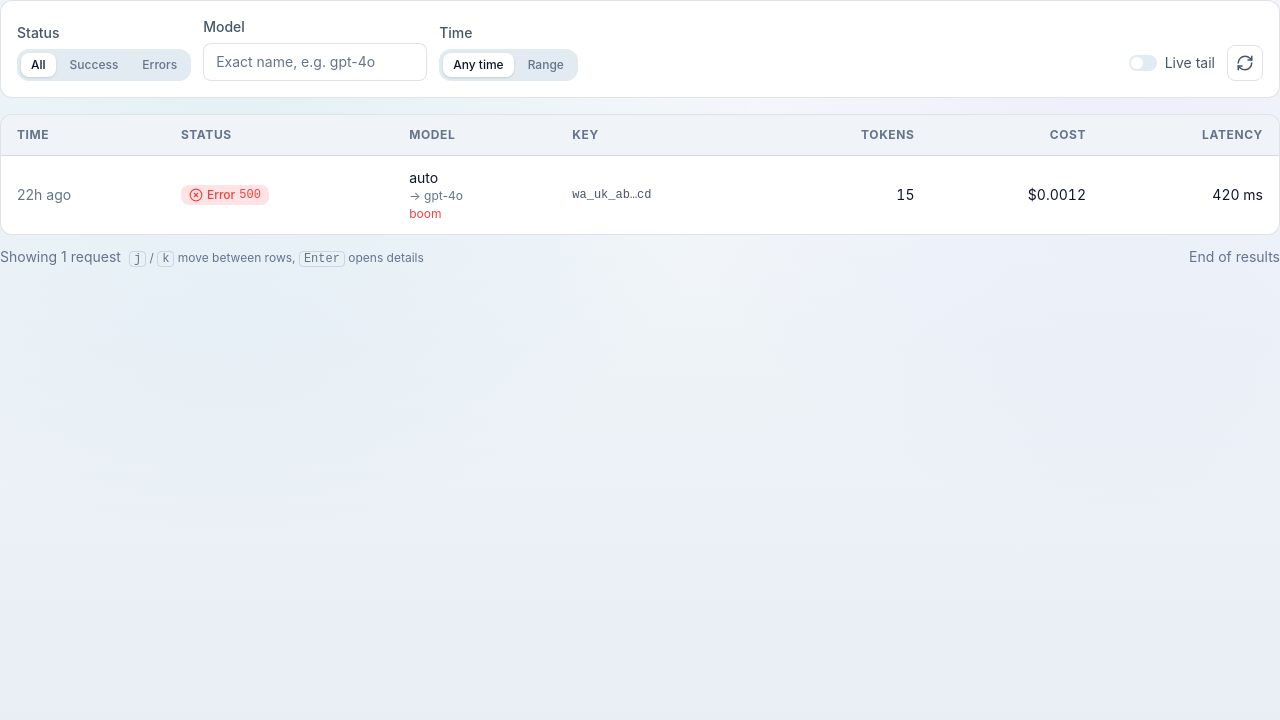
Test: RequestLogsPage › opens a detail sheet for a row
Expected: the text "boom" is shown, [409, 206, 442, 221]
Click the button with aria-label "view details for request" at {"x": 44, "y": 195}, box [17, 185, 71, 205]
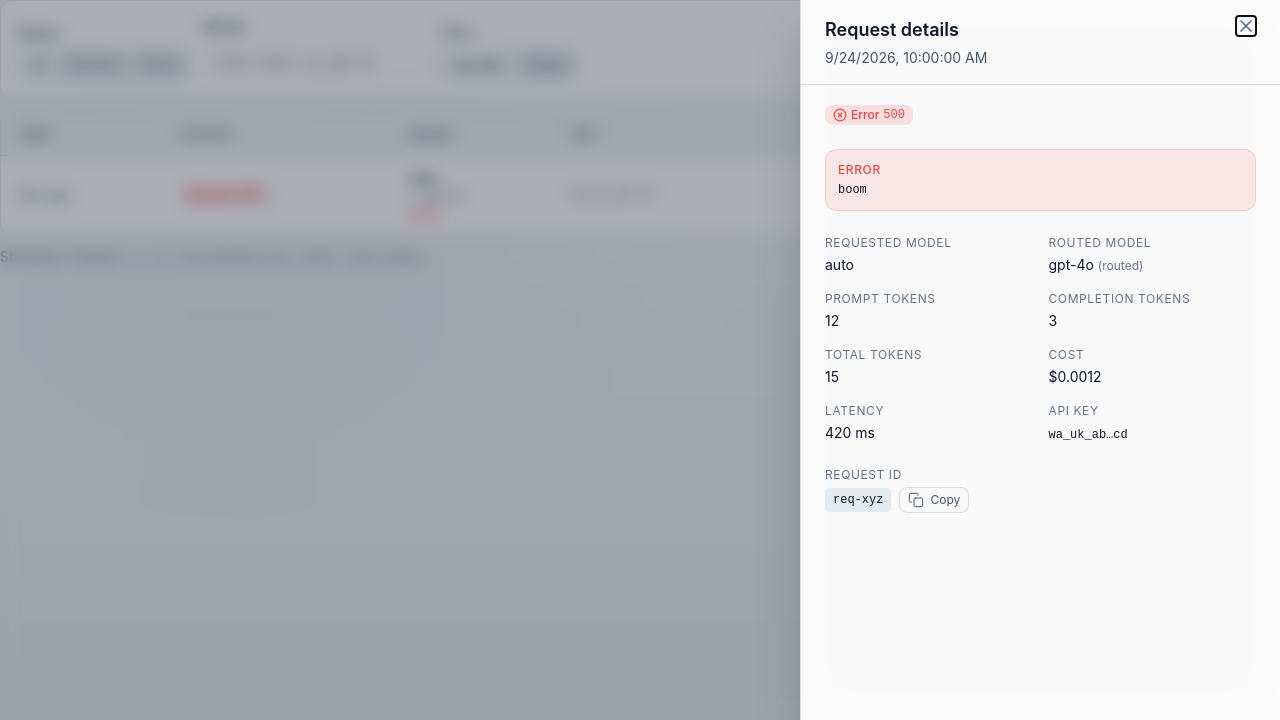
Expected: the text "req-xyz" is shown, [825, 488, 891, 512]
Expected: the text "auto" is shown, [825, 256, 854, 273]
Expected: the text "15" is shown, [825, 368, 839, 385]
Click the button named "Close" at {"x": 1246, "y": 26}, box [1236, 16, 1256, 36]
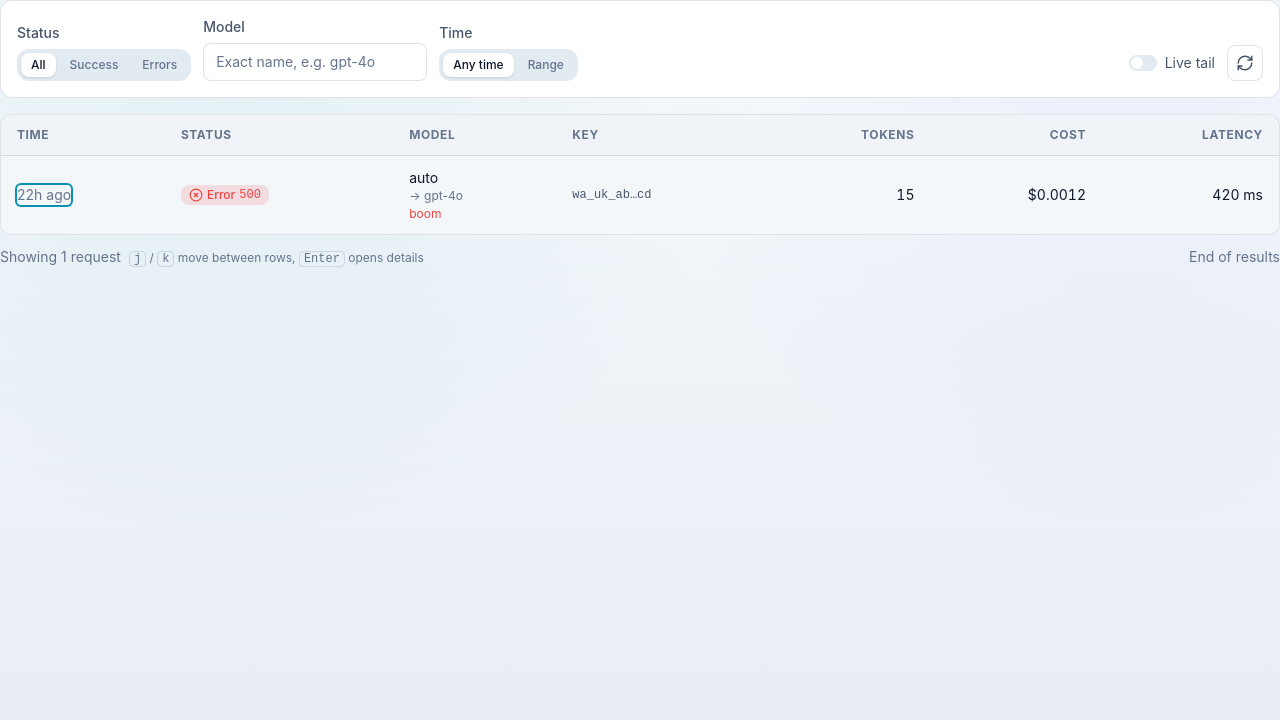
Expected: the dialog is gone
